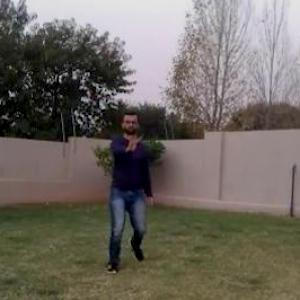takeoff-hand: (121, 132, 149, 157)
